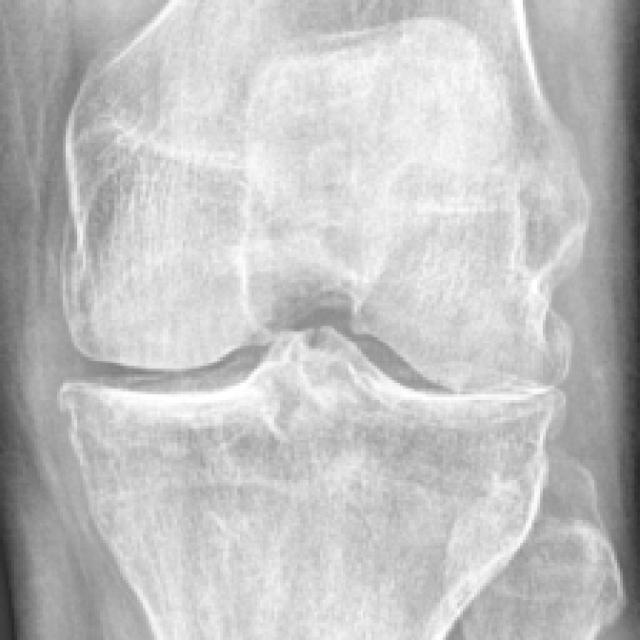femur: (62, 0, 588, 394)
tibia: (59, 331, 568, 640)
